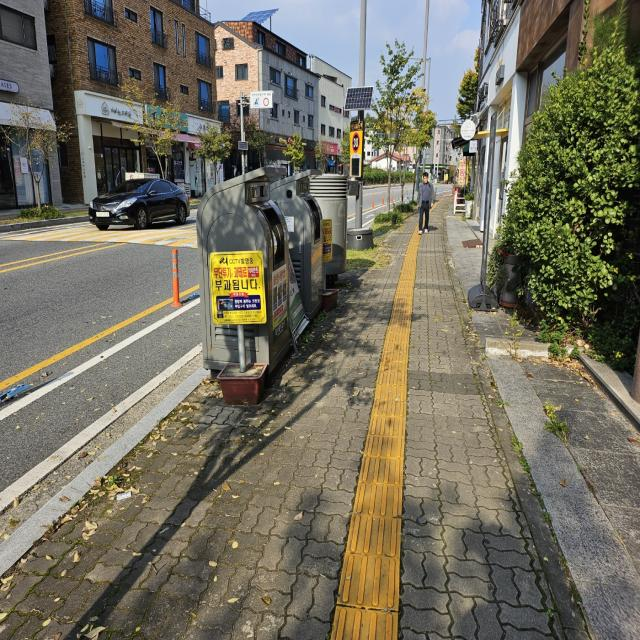CleanNet: (182, 152, 298, 370), (266, 161, 332, 328)
